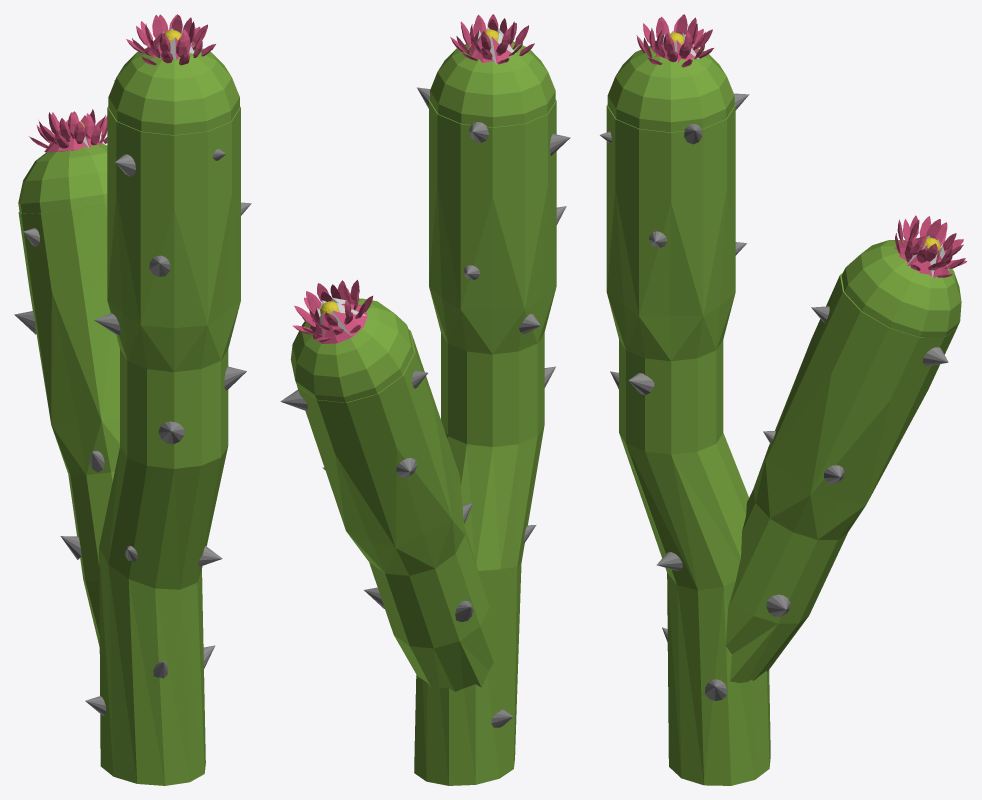
The picture shows the model from 3 angles, left to right: view 1: azimuth 30°, elevation 25°; view 2: azimuth 150°, elevation 25°; view 3: azimuth 270°, elevation 25°; orthographic projection. The views are drawn at different scales.
Parts seen in each view (by area): view 1: node_MeshObject1333074304-PolyPaper9; view 2: node_MeshObject1333074304-PolyPaper9; view 3: node_MeshObject1333074304-PolyPaper9.
Boxes of the visible parts, left/top/right/bottom form: node_MeshObject1333074304-PolyPaper9: left=14, top=14, right=251, bottom=785; node_MeshObject1333074304-PolyPaper9: left=280, top=14, right=570, bottom=785; node_MeshObject1333074304-PolyPaper9: left=600, top=14, right=966, bottom=785.
Bounding box in the file's own units: 0.1391 × 0.6323 × 0.2857.
